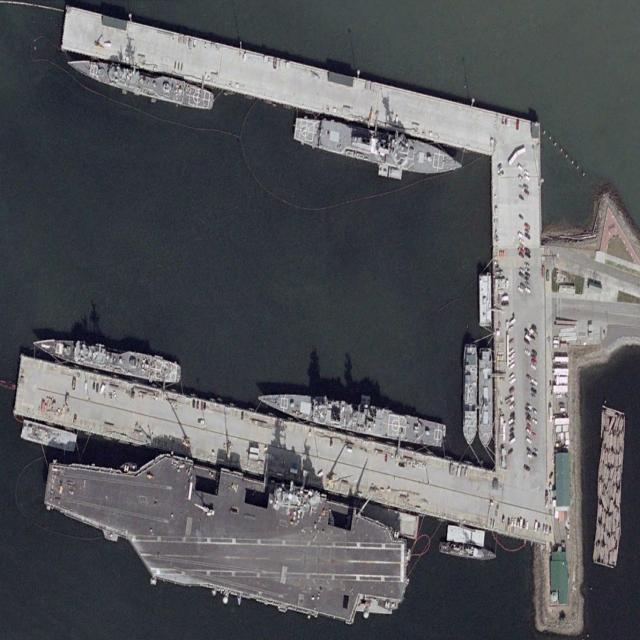Aircraft Carrier: (38, 426, 414, 634)
Cruiser: (255, 381, 446, 450)
Destroyer: (293, 108, 464, 184)
Frigate: (66, 50, 215, 111), (32, 328, 182, 387)
Other Warship: (462, 345, 479, 445), (479, 346, 493, 449)
